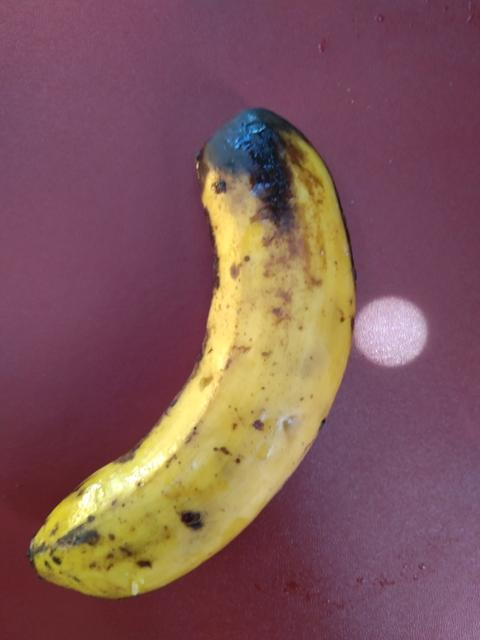rotten: (0, 99, 372, 611)
